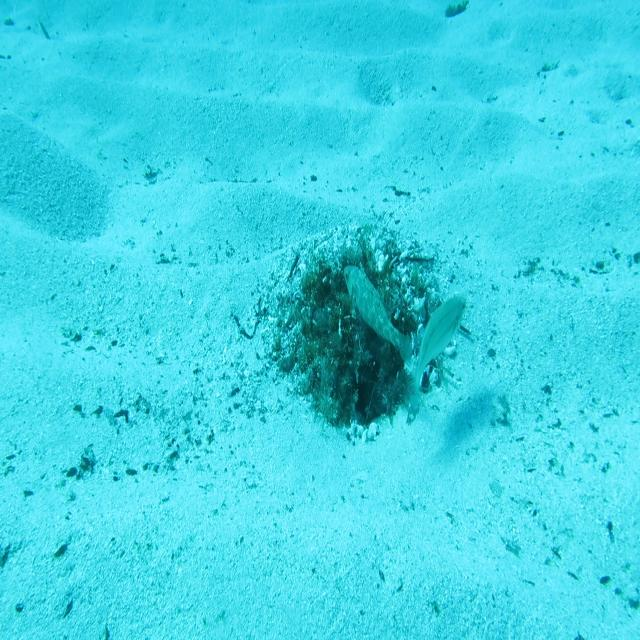FAN: (342, 260, 414, 374)
core_nest: (330, 281, 386, 336)
female: (402, 292, 468, 414)
nest: (248, 205, 474, 459)
vegetation: (444, 1, 469, 19)
